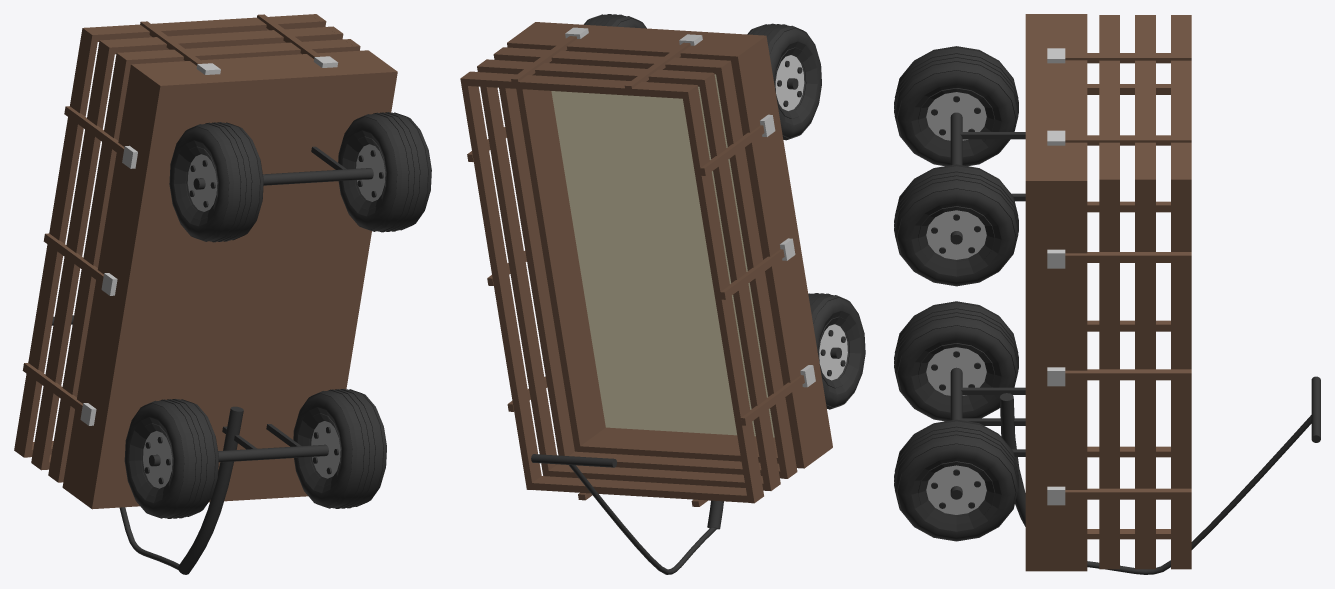
The model's file is Wagon.fbx.
The picture shows the model from 3 angles, left to right: view 1: azimuth 30°, elevation 25°; view 2: azimuth 150°, elevation 25°; view 3: azimuth 270°, elevation 25°; orthographic projection. The views are drawn at different scales.
Parts seen in each view (by area): view 1: imagetostl_mesh27, imagetostl_mesh20, imagetostl_mesh28, imagetostl_mesh24, imagetostl_mesh19, imagetostl_mesh46, imagetostl_mesh58, imagetostl_mesh45, imagetostl_mesh54, imagetostl_mesh59, imagetostl_mesh55, imagetostl_mesh5 (+8 smaller); view 2: imagetostl_mesh27, imagetostl_mesh49, imagetostl_mesh46, imagetostl_mesh45, imagetostl_mesh58, imagetostl_mesh51, imagetostl_mesh50, imagetostl_mesh20, imagetostl_mesh28, imagetostl_mesh52, imagetostl_mesh54, imagetostl_mesh55 (+11 smaller); view 3: imagetostl_mesh27, imagetostl_mesh19, imagetostl_mesh24, imagetostl_mesh20, imagetostl_mesh28, imagetostl_mesh49, imagetostl_mesh50, imagetostl_mesh51, imagetostl_mesh54, imagetostl_mesh55, imagetostl_mesh59, imagetostl_mesh6 (+9 smaller).
Boxes of the visible parts, x1,y1,x2,y2 form: imagetostl_mesh27: (62,50,397,509); imagetostl_mesh20: (169,122,263,242); imagetostl_mesh28: (124,399,218,518); imagetostl_mesh24: (338,112,431,232); imagetostl_mesh19: (293,389,386,508); imagetostl_mesh46: (14,27,98,457); imagetostl_mesh58: (31,40,115,470); imagetostl_mesh45: (48,52,132,482); imagetostl_mesh54: (89,14,322,41); imagetostl_mesh59: (106,27,339,54); imagetostl_mesh55: (124,39,353,66); imagetostl_mesh5: (178,406,243,574); imagetostl_mesh27: (507,22,832,468); imagetostl_mesh49: (460,71,541,489); imagetostl_mesh46: (681,84,763,503); imagetostl_mesh45: (715,60,797,478); imagetostl_mesh58: (698,72,780,490); imagetostl_mesh51: (477,59,556,476); imagetostl_mesh50: (493,47,574,455); imagetostl_mesh20: (747,23,821,140); imagetostl_mesh28: (808,293,865,409); imagetostl_mesh52: (529,476,752,502); imagetostl_mesh54: (464,72,690,98); imagetostl_mesh55: (497,47,723,74); imagetostl_mesh27: (1025,14,1087,571); imagetostl_mesh19: (894,419,1018,541); imagetostl_mesh24: (894,164,1018,286); imagetostl_mesh20: (894,46,1018,166); imagetostl_mesh28: (894,301,1018,421); imagetostl_mesh49: (1171,175,1191,569); imagetostl_mesh50: (1099,175,1119,569); imagetostl_mesh51: (1135,175,1155,569); imagetostl_mesh54: (1171,19,1191,174); imagetostl_mesh55: (1099,19,1119,174); imagetostl_mesh59: (1135,19,1155,174); imagetostl_mesh6: (1087,415,1311,574).
Bounding box in the file's own units: 104834 × 169666 × 121138.
